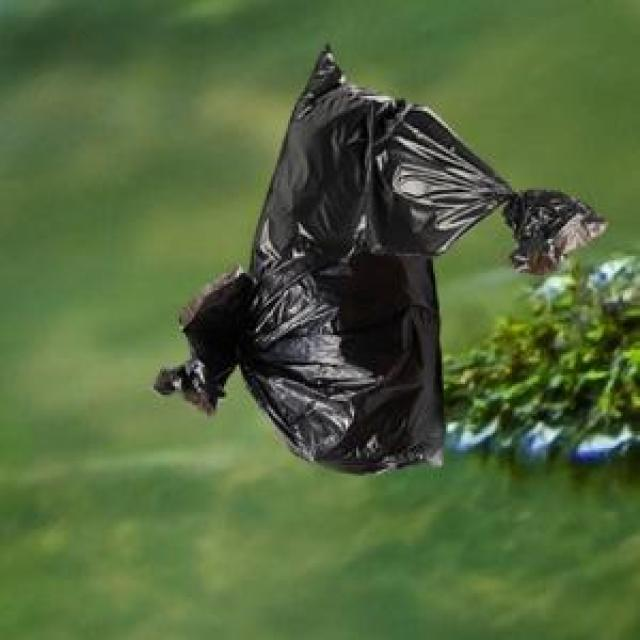Vinyl: (254, 51, 607, 270), (169, 253, 455, 474)
